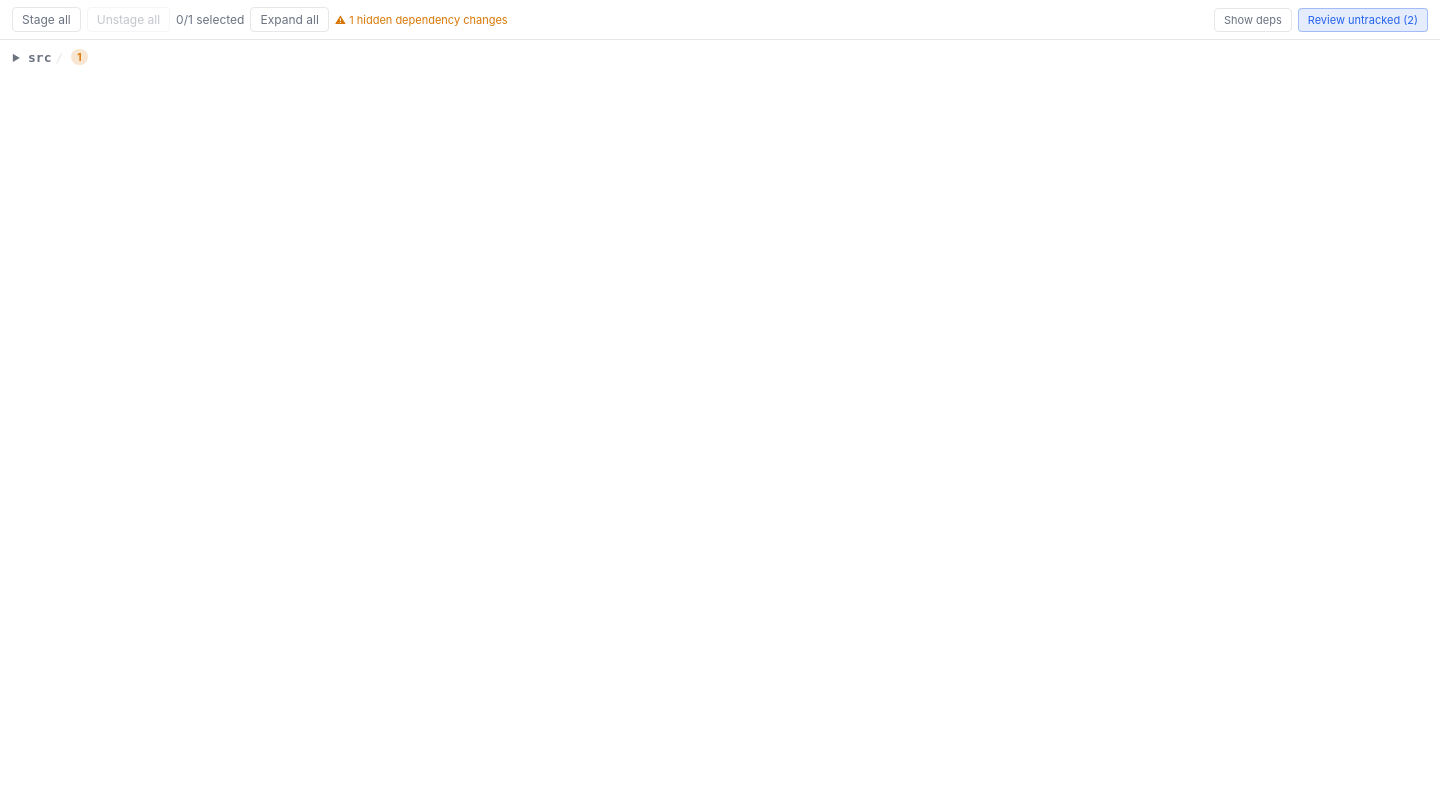
it: FileManager untracked review visibility › deletes only selected delete recommendations without starting another analysis loop
Click the button "Review untracked (2)": coordinates (1363, 20) [1298,8,1428,32]
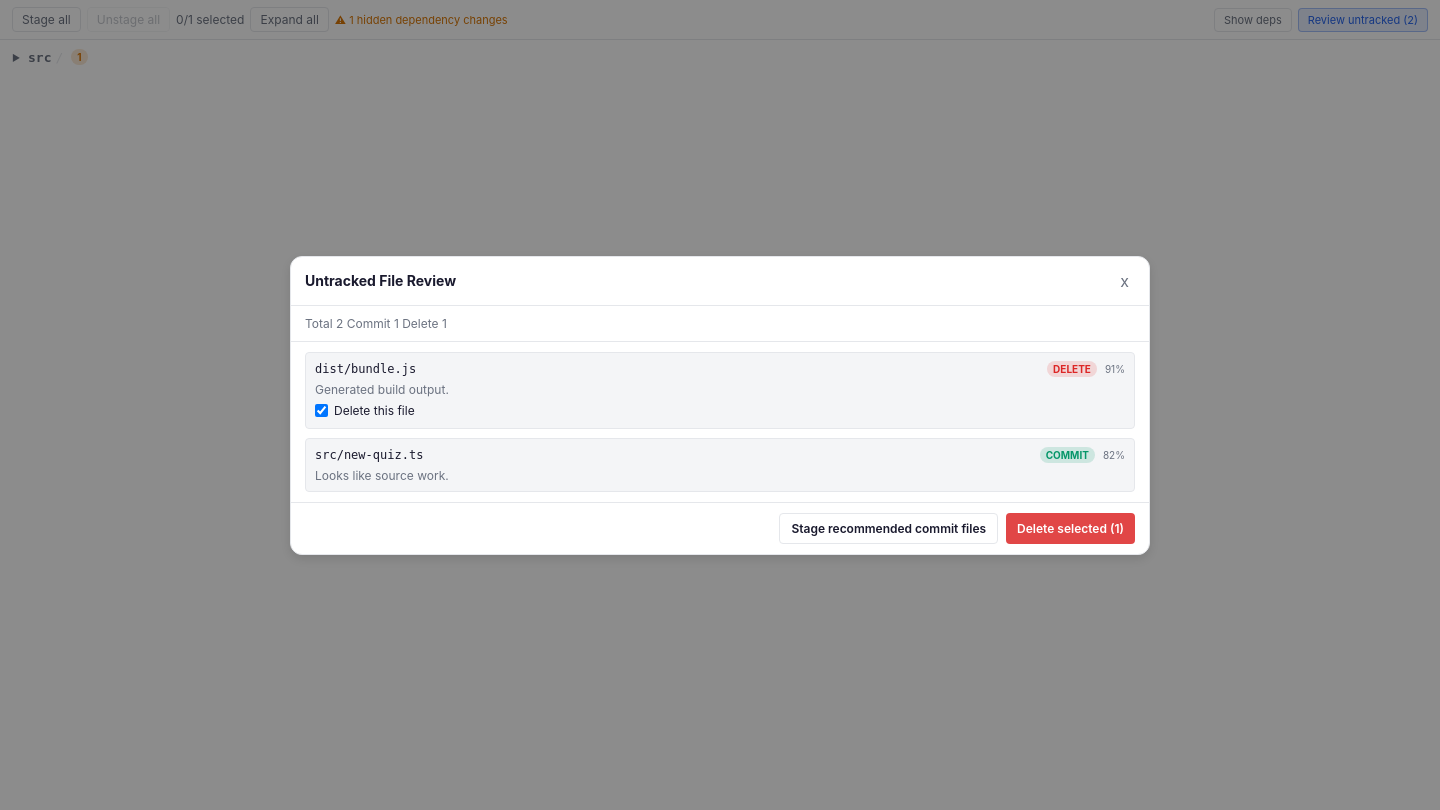
Now the text "dist/bundle.js" is shown, box [315,362,416,376]
Click the button "Delete selected (1)": coordinates (1071, 528) [1006,512,1135,544]
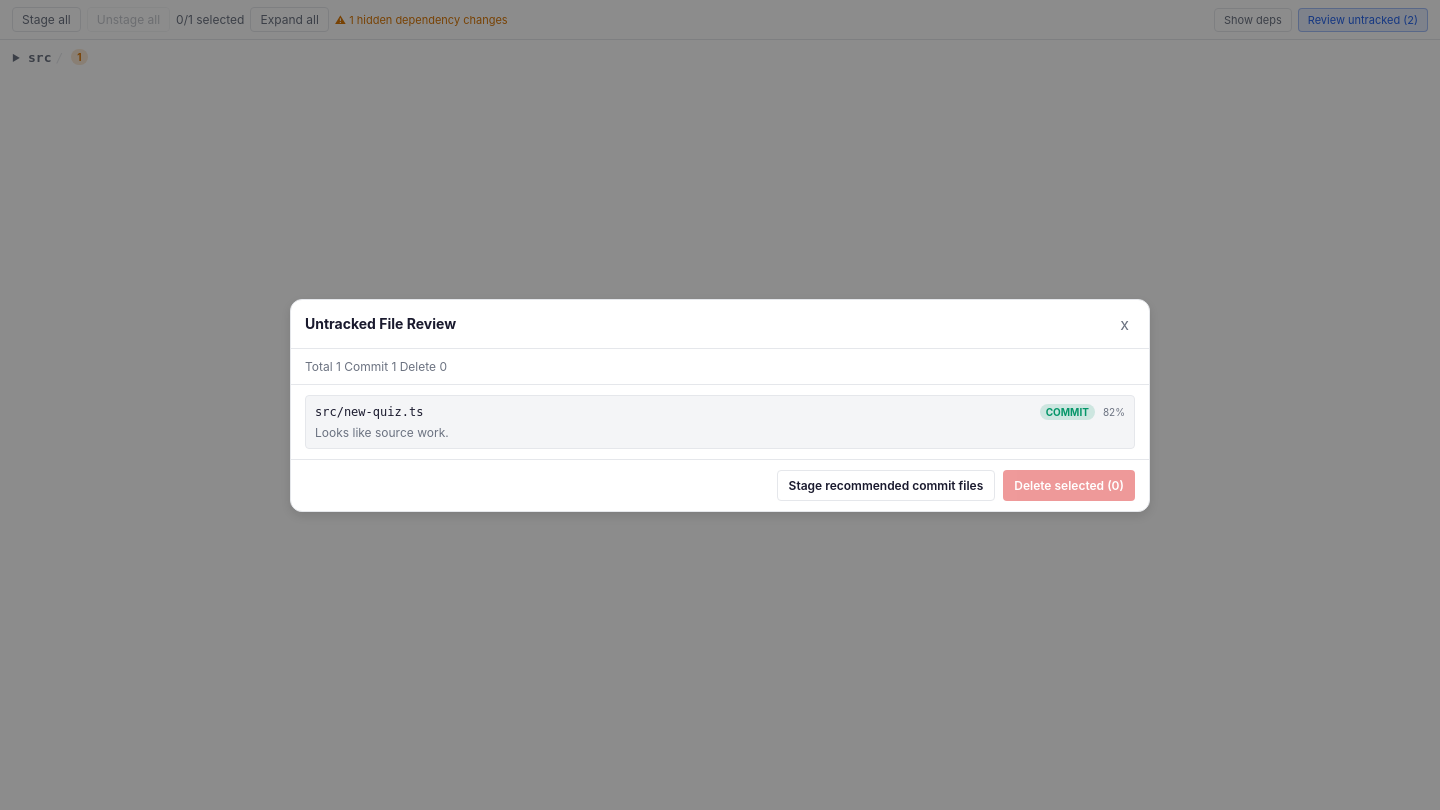
Now the text "src/new-quiz.ts" is shown, box [315,404,423,418]
Now the text "dist/bundle.js" is gone
